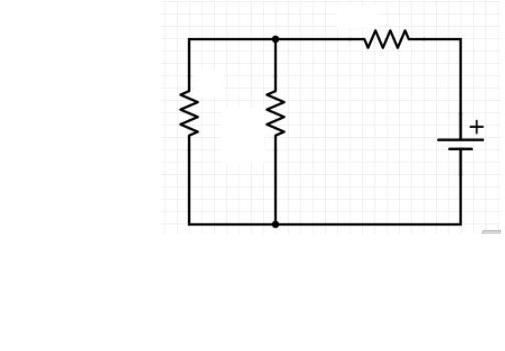resistor: (255, 72, 296, 149), (166, 79, 212, 144), (348, 18, 424, 57)
